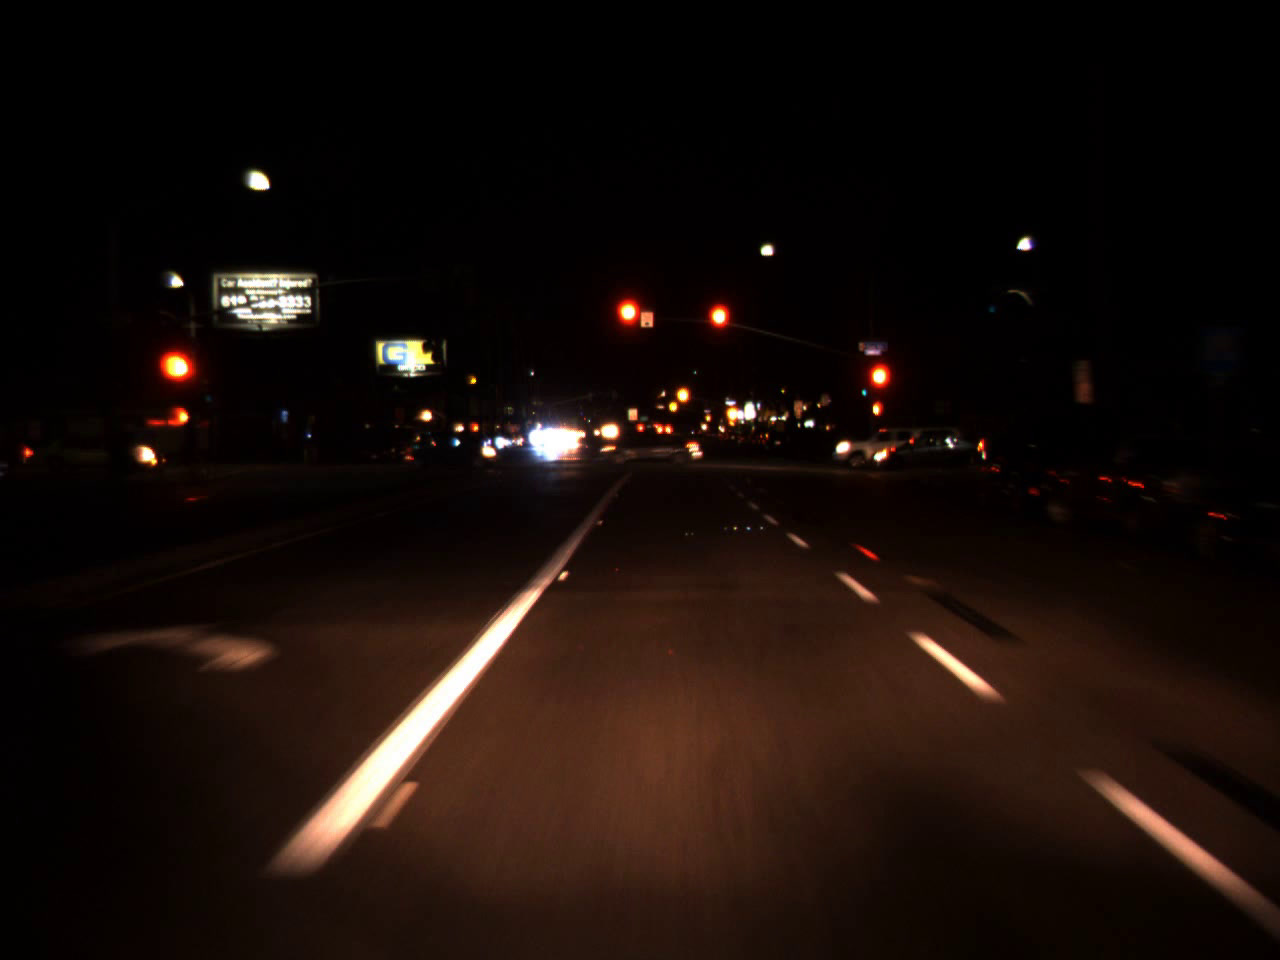stop: (612, 294, 645, 358), (865, 359, 895, 421), (160, 351, 193, 407), (705, 301, 733, 356)
warning: (674, 376, 692, 411), (724, 394, 740, 429), (668, 394, 678, 416), (703, 407, 712, 427)
